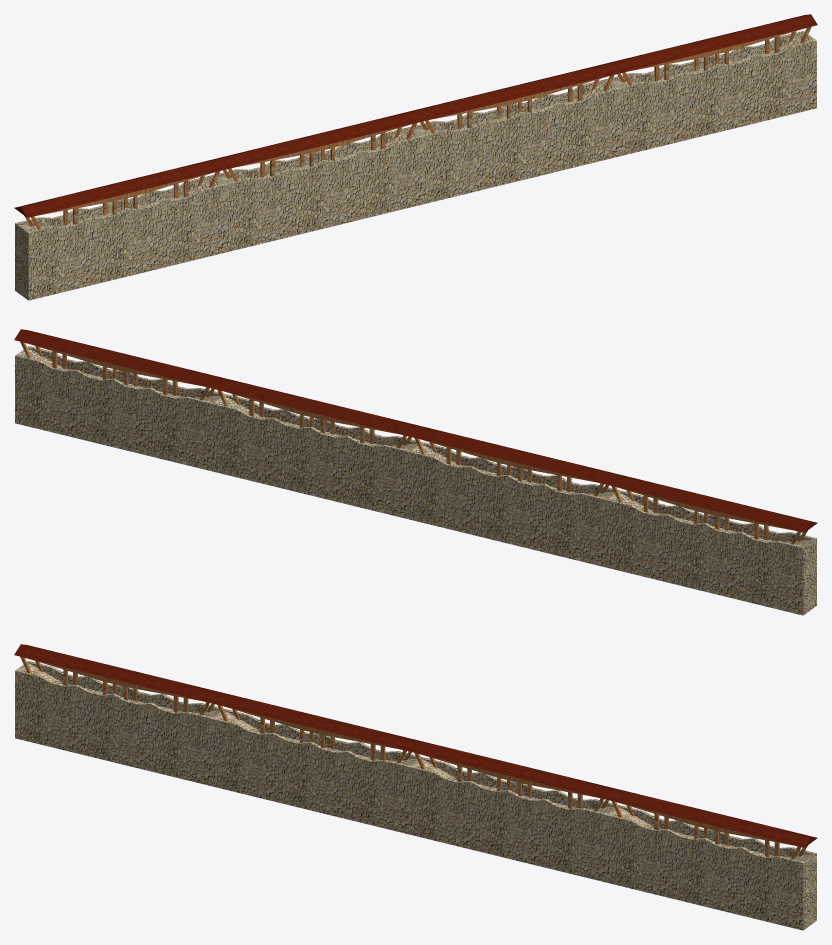
Rendered from Wall.obj.
3 renders of one model, top to bottom at view 1: azimuth 30°, elevation 25°; view 2: azimuth 150°, elevation 25°; view 3: azimuth 330°, elevation 25°, orthographic.
Parts seen in each view (by area): view 1: Cube.006_Cube.007, Cube_Cube.001, Cube.009_Cube.010, Cube.003_Cube.004, Cube.008_Cube.009, Cube.005_Cube.006, Cube.002_Cube.003, Cube.011_Cube.012, Cube.001_Cube.002, Cube.007_Cube.008, Cube.004_Cube.005, Cube.010_Cube.011; view 2: Cube.006_Cube.007, Cube_Cube.001, Cube.009_Cube.010, Cube.003_Cube.004, Cube.008_Cube.009, Cube.002_Cube.003, Cube.005_Cube.006, Cube.011_Cube.012, Cube.001_Cube.002, Cube.007_Cube.008, Cube.004_Cube.005, Cube.010_Cube.011; view 3: Cube.003_Cube.004, Cube_Cube.001, Cube.009_Cube.010, Cube.006_Cube.007, Cube.005_Cube.006, Cube.008_Cube.009, Cube.002_Cube.003, Cube.011_Cube.012, Cube.004_Cube.005, Cube.007_Cube.008, Cube.010_Cube.011, Cube.001_Cube.002.
Boxes of the visible parts, box(x1,y1,x2,y2) form: Cube.006_Cube.007: box(15, 175, 225, 300); Cube_Cube.001: box(409, 79, 619, 204); Cube.009_Cube.010: box(212, 127, 422, 252); Cube.003_Cube.004: box(607, 31, 816, 156); Cube.008_Cube.009: box(14, 158, 226, 217); Cube.005_Cube.006: box(606, 14, 817, 73); Cube.002_Cube.003: box(412, 62, 619, 121); Cube.011_Cube.012: box(214, 110, 421, 169); Cube.001_Cube.002: box(420, 75, 614, 133); Cube.007_Cube.008: box(24, 171, 220, 229); Cube.004_Cube.005: box(617, 26, 811, 85); Cube.010_Cube.011: box(223, 123, 417, 181); Cube.006_Cube.007: box(606, 490, 816, 615); Cube_Cube.001: box(212, 394, 422, 519); Cube.009_Cube.010: box(409, 442, 619, 567); Cube.003_Cube.004: box(15, 346, 224, 471); Cube.008_Cube.009: box(605, 473, 817, 532); Cube.002_Cube.003: box(211, 377, 419, 436); Cube.005_Cube.006: box(14, 329, 222, 387); Cube.011_Cube.012: box(410, 425, 617, 484); Cube.001_Cube.002: box(217, 390, 411, 448); Cube.007_Cube.008: box(611, 486, 807, 544); Cube.004_Cube.005: box(20, 341, 214, 400); Cube.010_Cube.011: box(414, 438, 608, 496); Cube.003_Cube.004: box(606, 805, 816, 930); Cube_Cube.001: box(409, 757, 619, 882); Cube.009_Cube.010: box(212, 709, 422, 834); Cube.006_Cube.007: box(15, 661, 224, 786); Cube.005_Cube.006: box(607, 788, 817, 847); Cube.008_Cube.009: box(14, 644, 225, 703); Cube.002_Cube.003: box(408, 740, 617, 799); Cube.011_Cube.012: box(213, 693, 422, 750); Cube.004_Cube.005: box(611, 801, 807, 859); Cube.007_Cube.008: box(20, 656, 214, 715); Cube.010_Cube.011: box(217, 705, 411, 763); Cube.001_Cube.002: box(414, 753, 608, 811).
Bounding box in the file's own units: 66.64 × 7.14 × 2.
3 materials, 3 textured.
